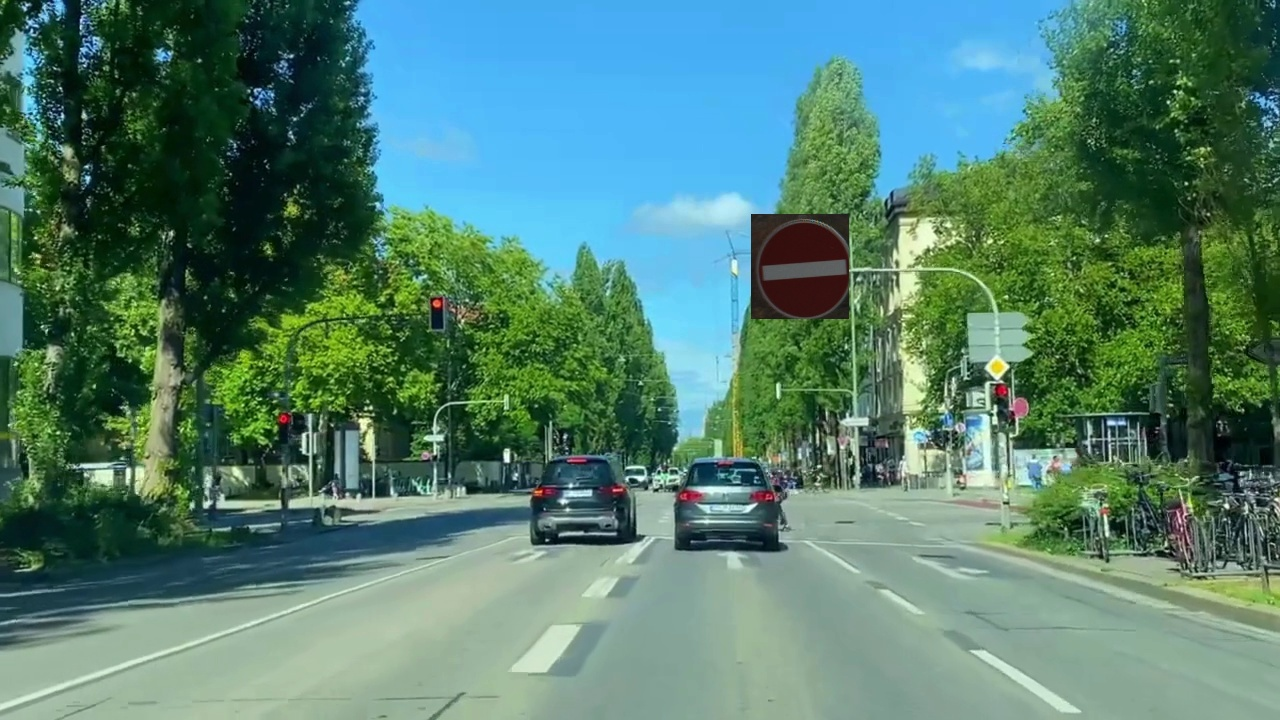No entry: (751, 214, 849, 319)
